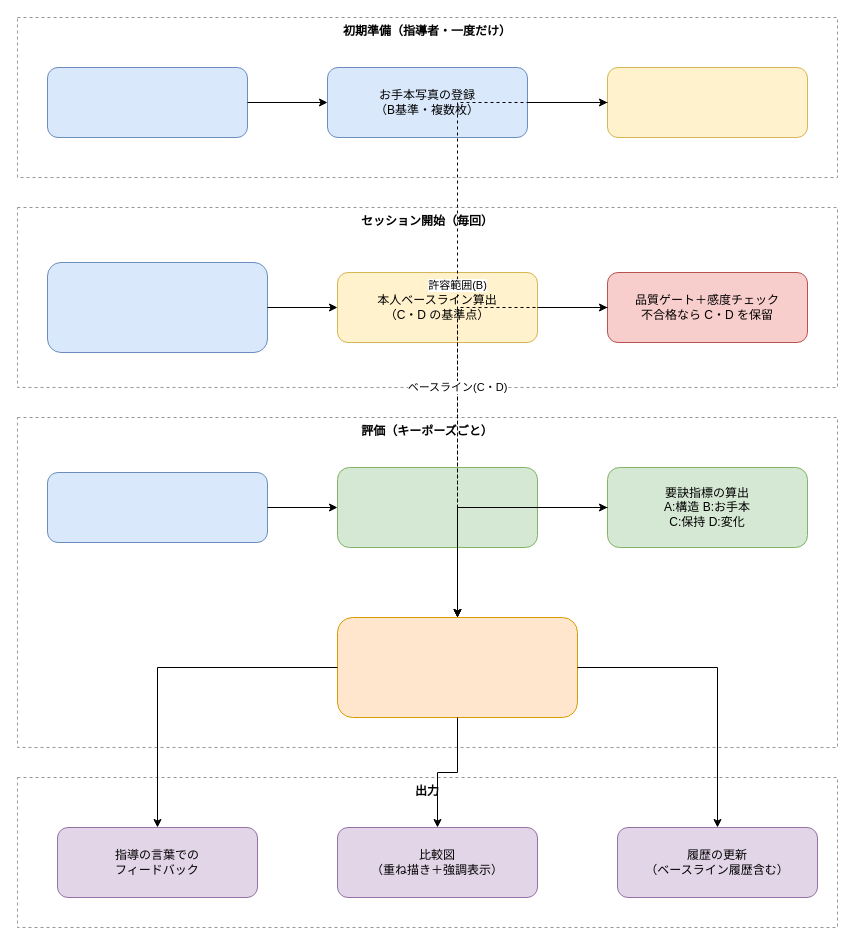
Image size: 855x945. Some labels were removed from this diagram. Each missing label, with the centre of its shape:
"キャリブレーション撮影 预备式（正面・側面・背面） ＋怒らせ肩（正面）" goes at pixel 157 307.
"キーポーズ定義 （要訣・重み・評価面）" goes at pixel 147 102.
"キーポーズ撮影 （撮影ガイド・服装ルール）" goes at pixel 157 507.
"判定 OK / 注意 / 要修正 測定不能・未評価は明示 （墜肘↔沈肩の相関チェック）" goes at pixel 457 667.
"姿勢抽出 （ランドマーク＋シルエット ＋信頼度）" goes at pixel 437 507.
"許容範囲の算出 （規定値＋平均±2σ）" goes at pixel 707 102.
